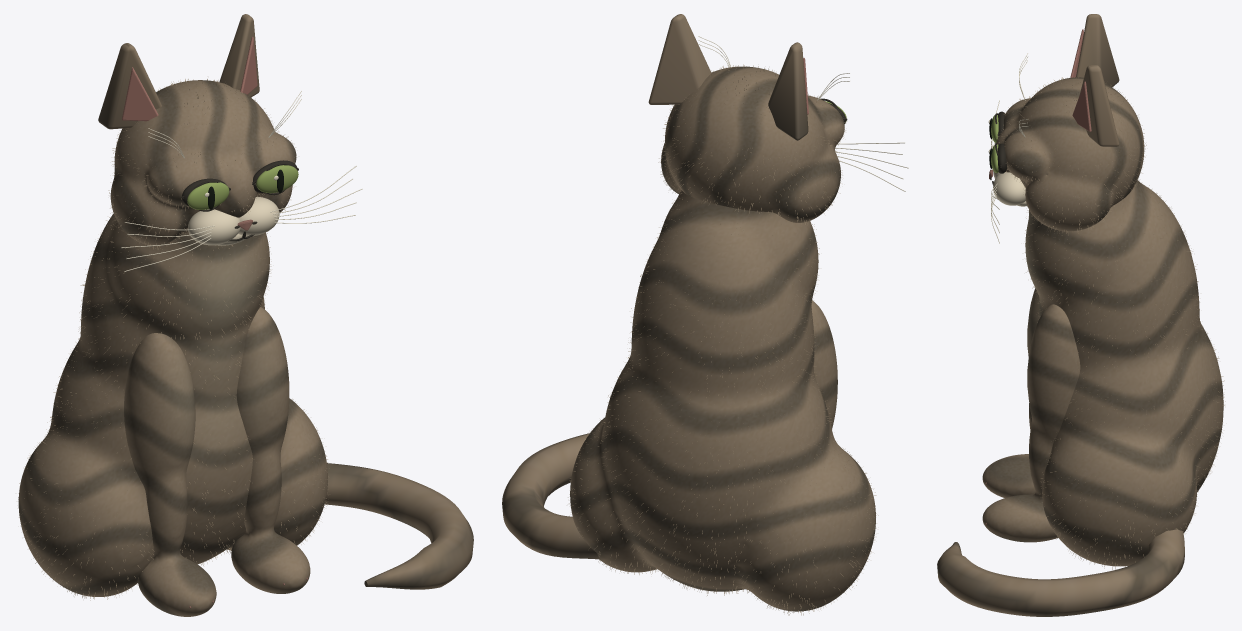
Rendered from mugi-cat-v2.glb.
The picture shows the model from 3 angles, left to right: view 1: azimuth 30°, elevation 25°; view 2: azimuth 150°, elevation 25°; view 3: azimuth 270°, elevation 25°; orthographic projection. The views are drawn at different scales.
Visible parts, largest first — view 1: Body_Sculpt, Head_Sculpt, Foreleg_L, Foreleg_R, Tail, Ear_L, Ear_R, Whisker pad, Short coat • Body_Sculpt, Inner ear, Whisker pad.001, Iris (+1 smaller); view 2: Body_Sculpt, Head_Sculpt, Tail, Ear_R, Ear_L, Short coat • Body_Sculpt, Foreleg_L, Short coat • Head_Sculpt; view 3: Body_Sculpt, Head_Sculpt, Tail, Foreleg_R, Foreleg_L, Ear_R, Ear_L, Short coat • Body_Sculpt, Whisker pad.001, Inner ear.001, Short coat • Head_Sculpt.
Boxes of the visible parts, <box> form: Body_Sculpt: <box>18,213,327,596</box>; Head_Sculpt: <box>110,80,296,245</box>; Foreleg_L: <box>124,333,216,616</box>; Foreleg_R: <box>231,307,310,593</box>; Tail: <box>325,463,473,589</box>; Ear_L: <box>98,43,161,129</box>; Ear_R: <box>219,14,259,97</box>; Whisker pad: <box>188,209,240,245</box>; Short coat • Body_Sculpt: <box>18,217,329,600</box>; Inner ear: <box>122,67,158,121</box>; Whisker pad.001: <box>238,196,279,235</box>; Iris: <box>187,182,229,209</box>; Body_Sculpt: <box>570,190,875,611</box>; Head_Sculpt: <box>661,66,844,222</box>; Tail: <box>502,433,600,559</box>; Ear_R: <box>648,14,711,104</box>; Ear_L: <box>768,42,808,140</box>; Short coat • Body_Sculpt: <box>568,189,878,615</box>; Foreleg_L: <box>811,300,837,428</box>; Short coat • Head_Sculpt: <box>658,64,845,224</box>; Body_Sculpt: <box>1025,180,1223,566</box>; Head_Sculpt: <box>996,77,1144,231</box>; Tail: <box>937,529,1184,616</box>; Foreleg_R: <box>982,304,1080,542</box>; Foreleg_L: <box>982,288,1039,497</box>; Ear_R: <box>1079,65,1119,146</box>; Ear_L: <box>1076,14,1119,87</box>; Short coat • Body_Sculpt: <box>1025,181,1225,569</box>; Whisker pad.001: <box>993,172,1025,205</box>; Inner ear.001: <box>1072,81,1091,131</box>; Short coat • Head_Sculpt: <box>996,77,1146,235</box>.
Size of the model in its own units: 1.8 by 2.49 by 1.33.
